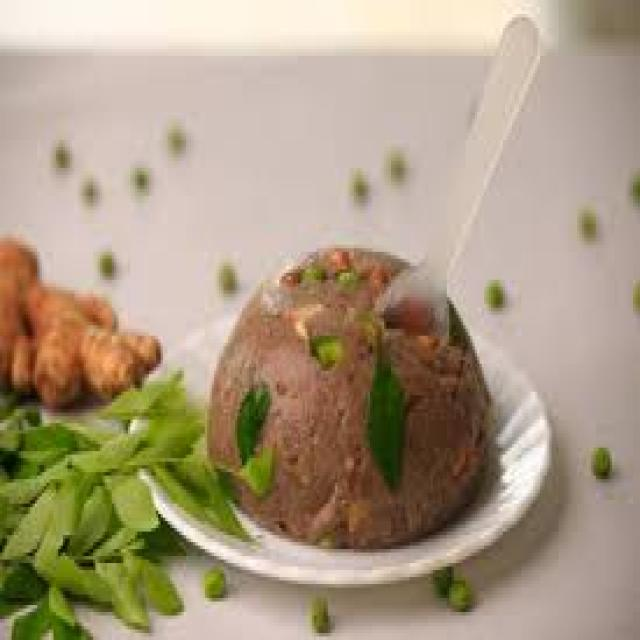UPMA: (202, 241, 489, 546)
